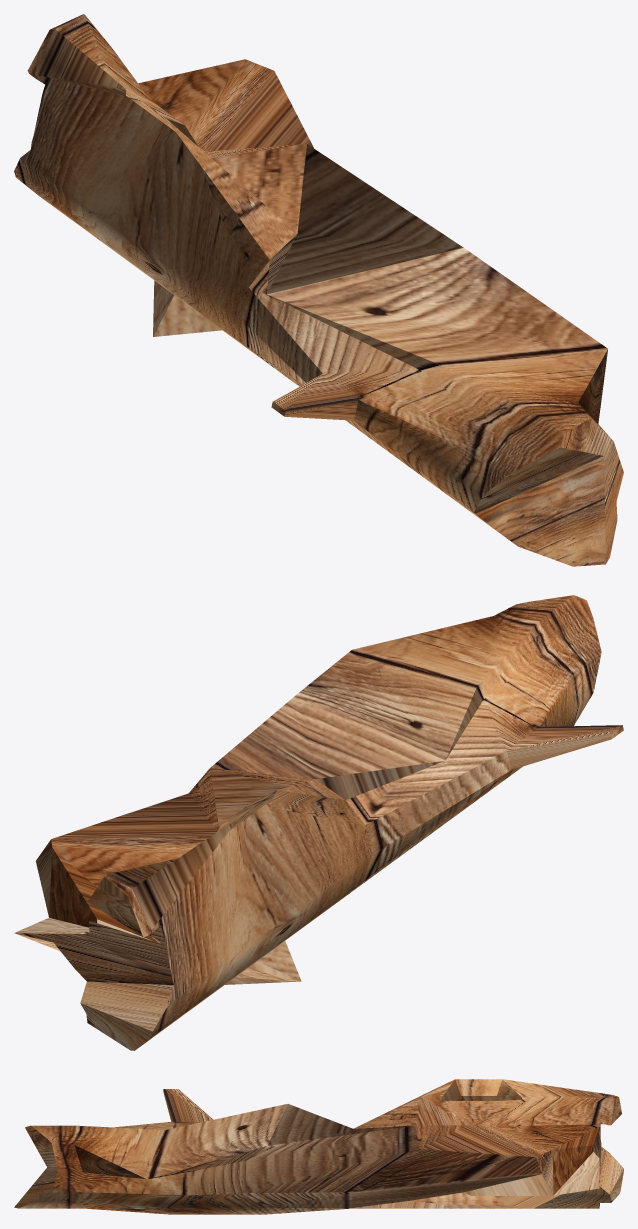
Rendered from doska.fbx.
The picture shows the model from 3 angles, top to bottom: view 1: azimuth 30°, elevation 25°; view 2: azimuth 150°, elevation 25°; view 3: azimuth 270°, elevation 25°; orthographic projection. The views are drawn at different scales.
Parts seen in each view (by area): view 1: Булев_1; view 2: Булев_1; view 3: Булев_1.
Part boxes in pixels (x1,y1,x2,y2): Булев_1: (14,14,623,566); Булев_1: (14,595,623,1050); Булев_1: (14,1079,623,1214).
Size of the model in its own units: 252 by 158 by 711.
Materials: 1 (1 with a texture image).
